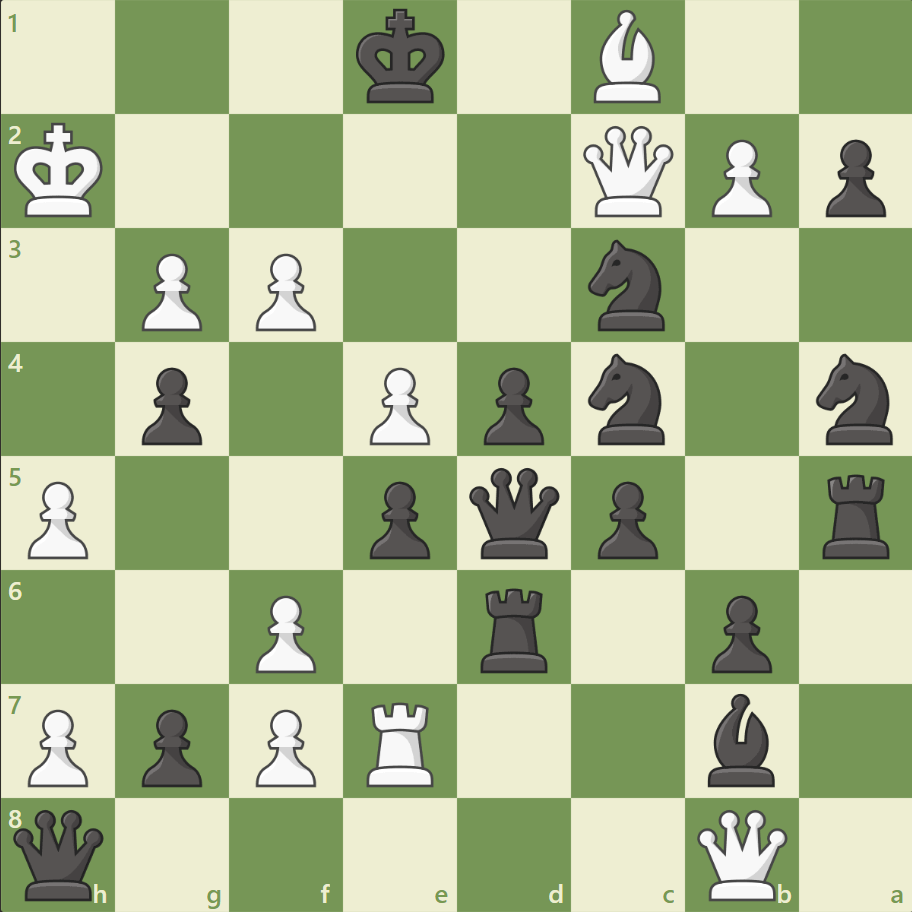B: (585, 6, 669, 109)
K: (11, 117, 111, 225)
P: (247, 700, 322, 791), (20, 700, 95, 791), (247, 586, 322, 677), (20, 473, 95, 564), (247, 246, 322, 337), (133, 246, 208, 337), (701, 132, 776, 223), (361, 359, 435, 450)
Q: (578, 122, 677, 222), (691, 804, 790, 903)
R: (360, 693, 442, 790)
b: (698, 687, 782, 790)
k: (351, 4, 451, 112)
n: (579, 234, 676, 337), (806, 348, 903, 450), (579, 348, 676, 450)
p: (133, 700, 208, 791), (701, 586, 776, 677), (474, 359, 549, 450), (133, 359, 208, 450), (588, 473, 662, 564), (361, 473, 435, 564), (815, 132, 889, 223)
q: (10, 804, 109, 903), (464, 463, 563, 562)
r: (473, 579, 556, 676), (814, 466, 897, 563)
